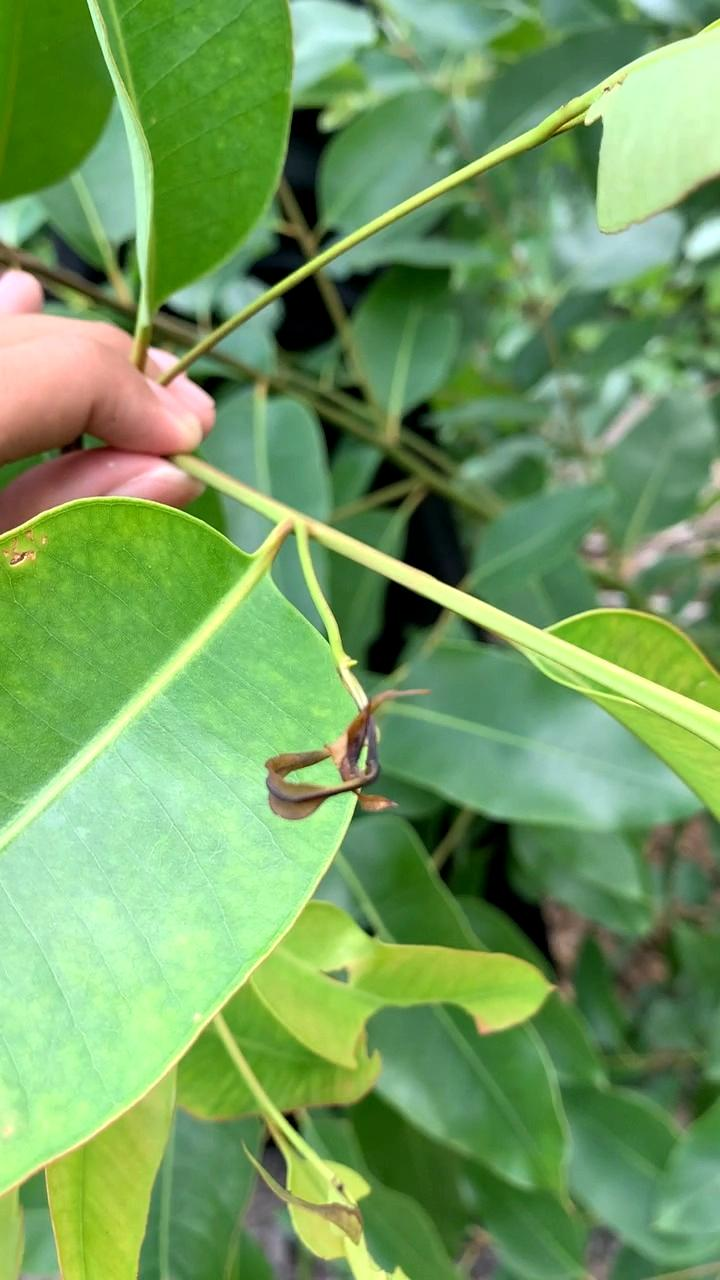Helopeltis-Withered Sprout: (266, 690, 437, 847)
